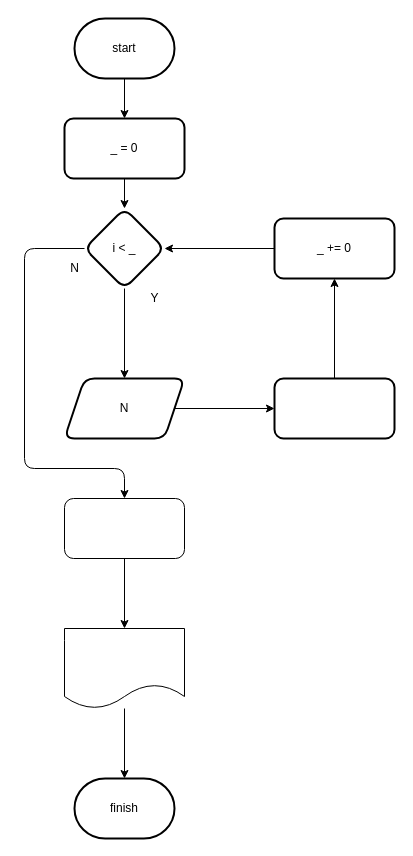
Image size: 413x856. Some labels were removed from this diagram. The shapes that lost their labels are listed below. From the top down, each one's box as (x1, y1, x2, y2) in pixels, then its label:
(273, 377, 395, 439): a_list.append(N%42)
(64, 498, 184, 558): a_set = set(a_list)
(64, 628, 184, 708): len(a_list)
